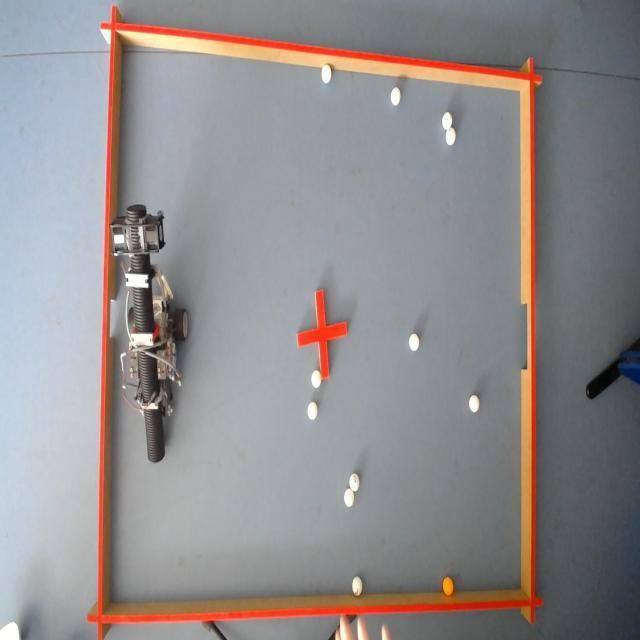orange: (442, 576, 454, 596)
robot: (112, 199, 185, 446)
white: (468, 394, 482, 416), (390, 84, 402, 106), (351, 575, 362, 596), (408, 332, 419, 352), (318, 62, 329, 82), (441, 112, 452, 132), (344, 488, 354, 509), (306, 400, 316, 420), (346, 474, 358, 490), (310, 369, 320, 388), (446, 125, 454, 146)
